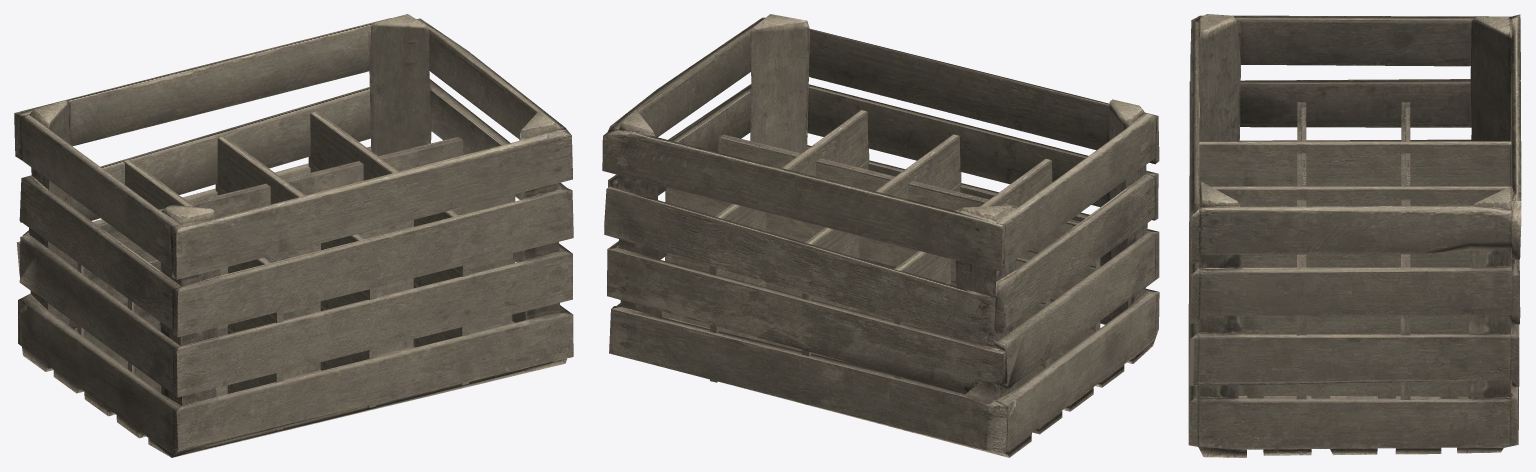
The model's file is caixote.glb.
The picture shows the model from 3 angles, left to right: view 1: azimuth 30°, elevation 25°; view 2: azimuth 150°, elevation 25°; view 3: azimuth 270°, elevation 25°; orthographic projection. The views are drawn at different scales.
Parts seen in each view (by area): view 1: models\props\distillery\wood_crate003_bottle.vmdl_c.unnamed_; view 2: models\props\distillery\wood_crate003_bottle.vmdl_c.unnamed_; view 3: models\props\distillery\wood_crate003_bottle.vmdl_c.unnamed_.
Boxes of the visible parts, left/top/right/bottom form: models\props\distillery\wood_crate003_bottle.vmdl_c.unnamed_: left=14, top=14, right=573, bottom=457; models\props\distillery\wood_crate003_bottle.vmdl_c.unnamed_: left=602, top=14, right=1159, bottom=457; models\props\distillery\wood_crate003_bottle.vmdl_c.unnamed_: left=1188, top=14, right=1521, bottom=457.
Bounding box in the file's own units: 0.6624 × 0.3872 × 0.4587.
Materials: 1 (1 with a texture image).
